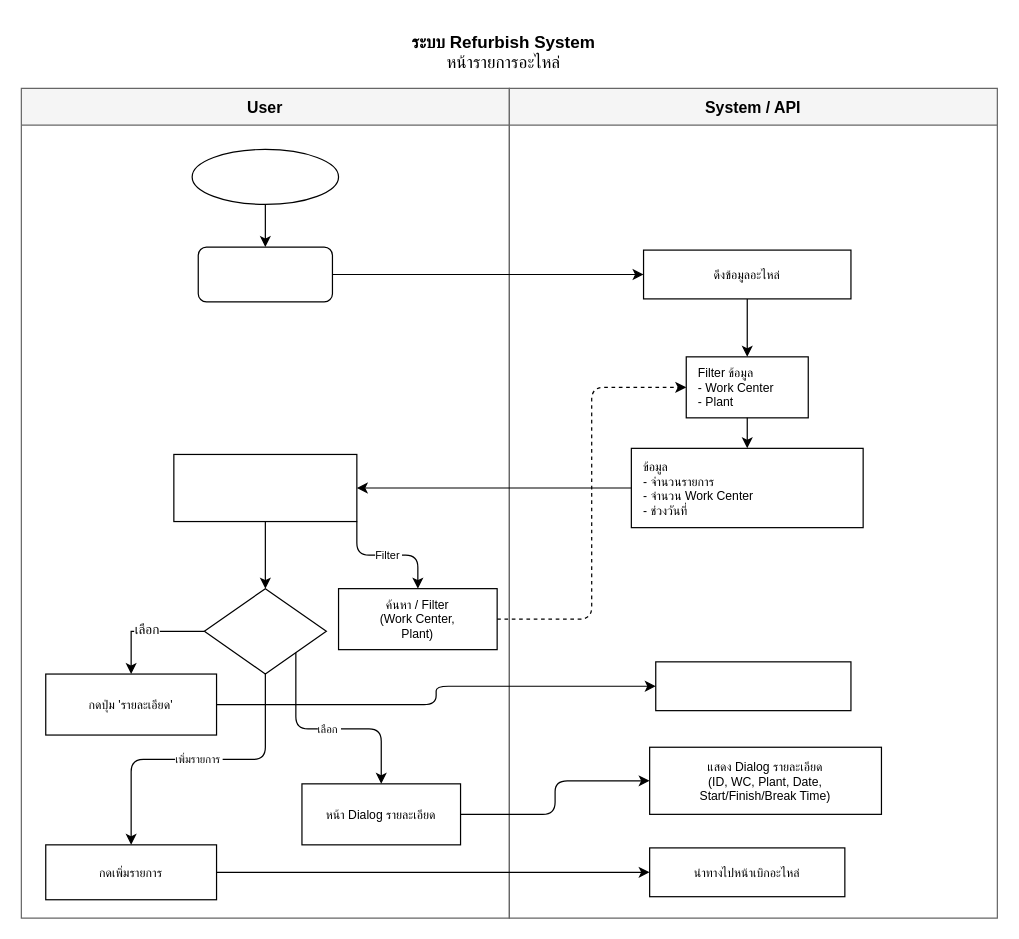
Some shapes in this 1019 by 939 pixel diagram are drawn without their labels. The shapes that lost their labels are listed below. From the top down, each one's box as (x1, y1, x2, y2) in pixels, then its label:
(191, 148, 339, 204): เริ่มต้น
(197, 246, 332, 302): เข้าหน้า การเบิกอะไหล่
(173, 453, 357, 522): ตารางแสดงข้อมูลอะไหล่
(203, 587, 326, 674): User Action?
(655, 661, 851, 711): ข้อมูลรายละเอียดอะไหล่
